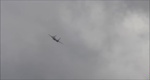maybay_muctieu: (49, 32, 63, 45)
